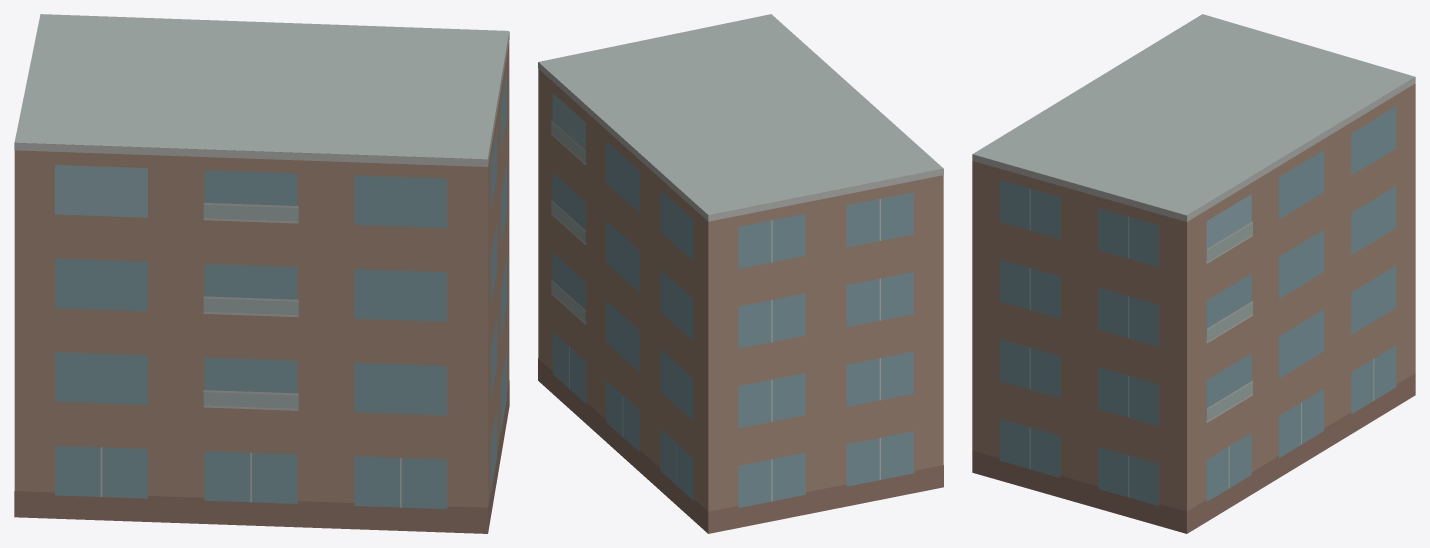
Rendered from survey-upis-32842976.glb.
3 renders of one model, left to right at view 1: azimuth 30°, elevation 25°; view 2: azimuth 150°, elevation 25°; view 3: azimuth 270°, elevation 25°, orthographic. The views are drawn at different scales.
Visible parts, largest first — view 1: survey-upis-32842976.tmp; view 2: survey-upis-32842976.tmp; view 3: survey-upis-32842976.tmp.
Boxes of the visible parts, x1,y1,x2,y2 form: survey-upis-32842976.tmp: (14, 14, 509, 533); survey-upis-32842976.tmp: (538, 14, 943, 533); survey-upis-32842976.tmp: (972, 14, 1415, 533).
Bounding box in the file's own units: 16.16 × 11.9 × 15.02.
